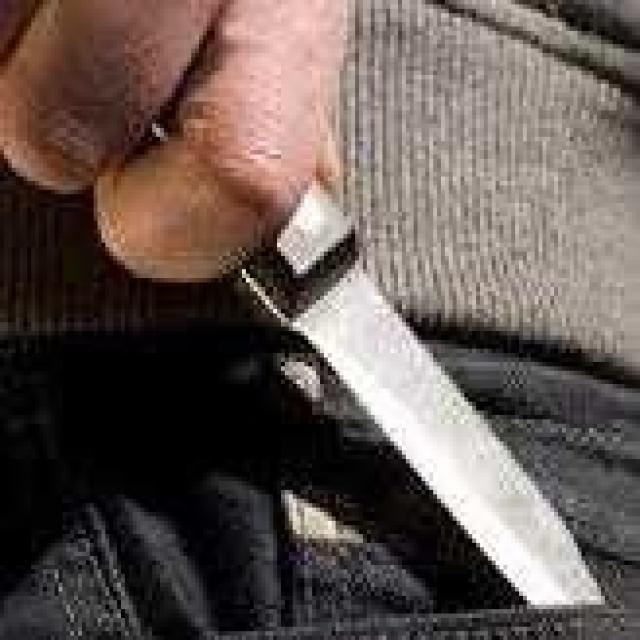knife: (98, 71, 640, 640)
